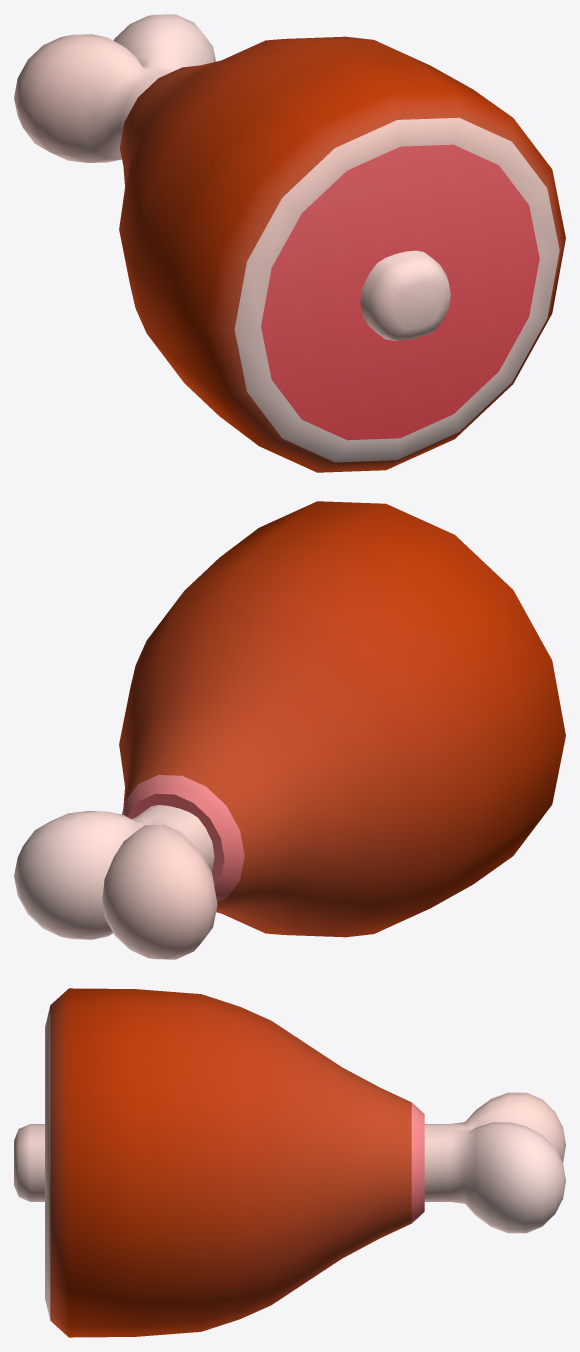
The model's file is Meat_V1_01.fbx.
3 renders of one model, top to bottom at view 1: azimuth 30°, elevation 25°; view 2: azimuth 150°, elevation 25°; view 3: azimuth 270°, elevation 25°, orthographic. The views are drawn at different scales.
Parts seen in each view (by area): view 1: Meat_V1_01; view 2: Meat_V1_01; view 3: Meat_V1_01.
Boxes of the visible parts, x1=… form: Meat_V1_01: x1=14, y1=14, x2=565, y2=472; Meat_V1_01: x1=14, y1=501, x2=565, y2=959; Meat_V1_01: x1=14, y1=988, x2=565, y2=1337.
Size of the model in its own units: 38.69 by 38.69 by 61.12.
